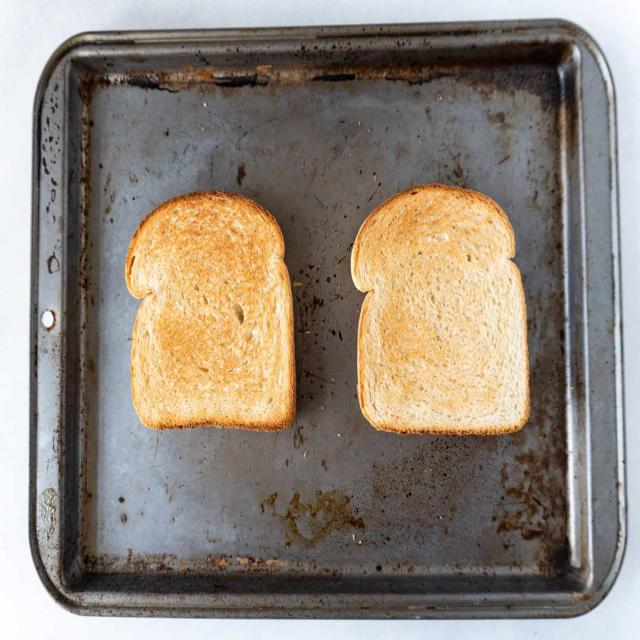Bread: (351, 184, 530, 435), (125, 191, 296, 431)
